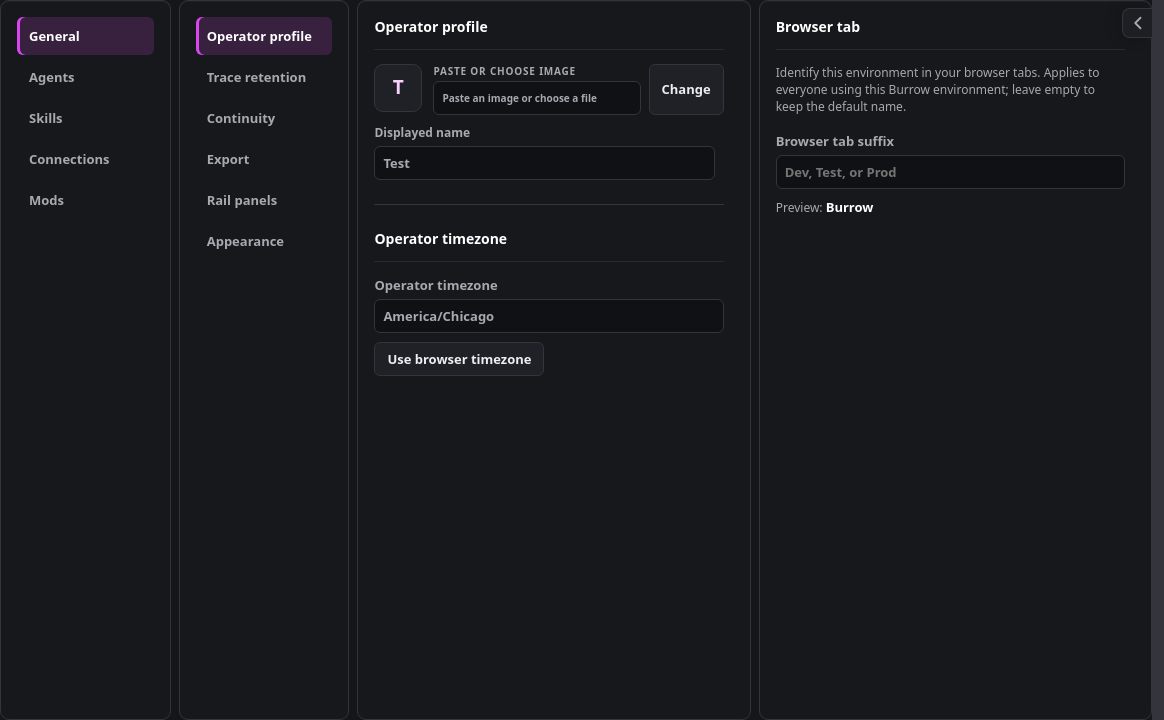
Test: mounts only the selected configuration, with no hidden duplicate reads
Expected: the field showing "Test" is shown, [374, 146, 715, 180]
Expected: the element "Browser tab" is shown, [759, 0, 1152, 719]
Click the button "Continuity" at (264, 118), box [196, 99, 332, 137]
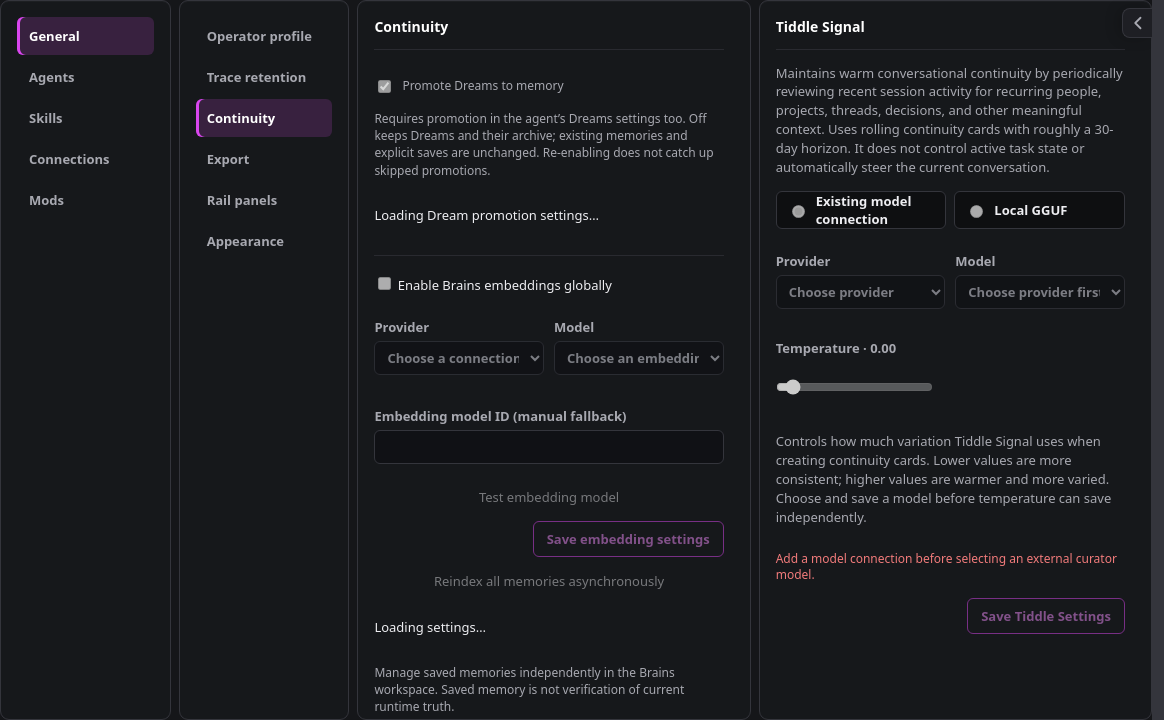
Expected: the element named "Browser tab" is shown, [759, 0, 1152, 719]
Now the element "Continuity" is shown, box [357, 0, 751, 719]
Click the button "Operator profile" at (264, 36), box [196, 17, 332, 55]
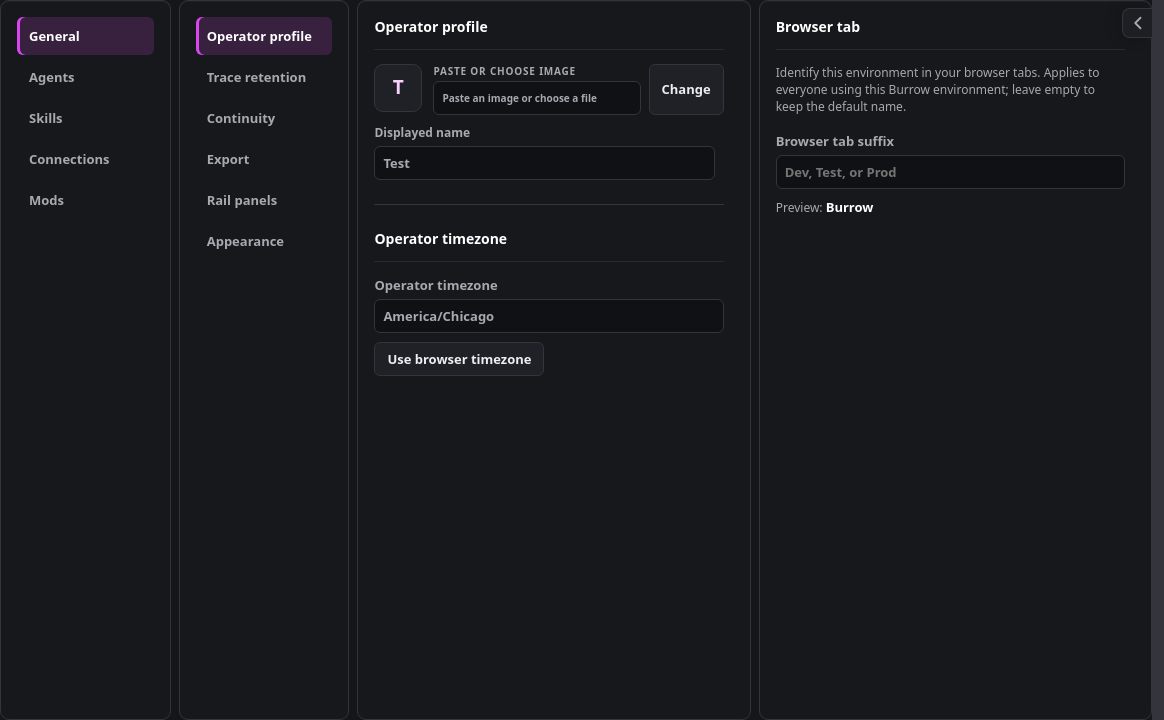
Now the field showing "America/Chicago" is shown, box [374, 299, 724, 333]
Click the button "Connections" at (85, 159), box [17, 140, 154, 178]
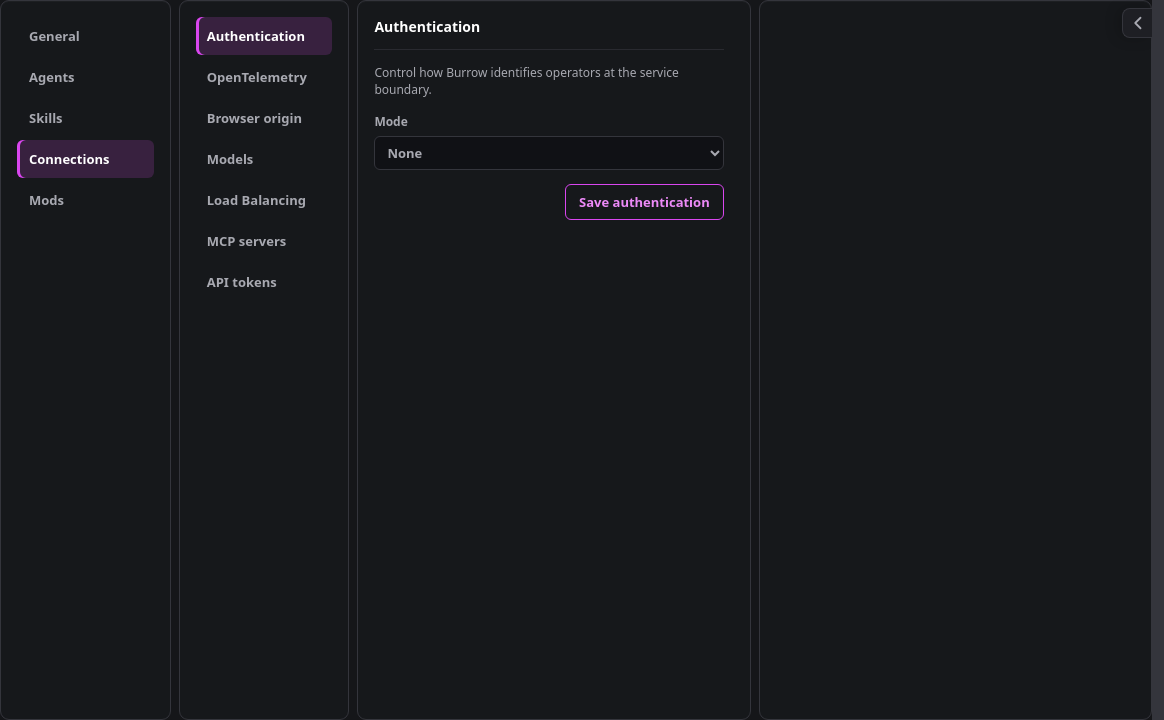
Now the button "Save authentication" is enabled, box [565, 184, 724, 220]
Now the number of buttons "Save authentication" is 1, box [565, 184, 724, 220]
Now the element "Browser origin" is shown, box [179, 0, 349, 719]
Click the button "Browser origin" at (264, 118), box [196, 99, 332, 137]
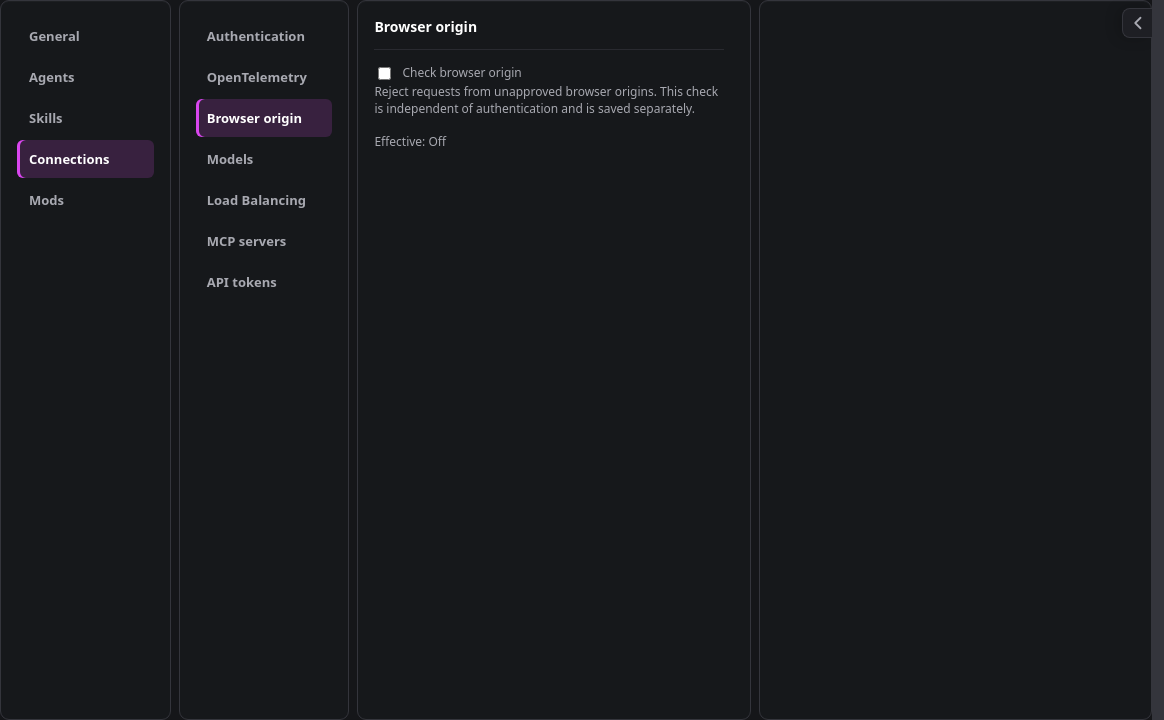
Expected: the element named "Continuity" is shown, [357, 0, 751, 719]
Now the checkbox labelled "Check browser origin" is enabled, box [378, 67, 391, 80]
Now the button "Save authentication" is gone
Click the button "Authentication" at (264, 36), box [196, 17, 332, 55]
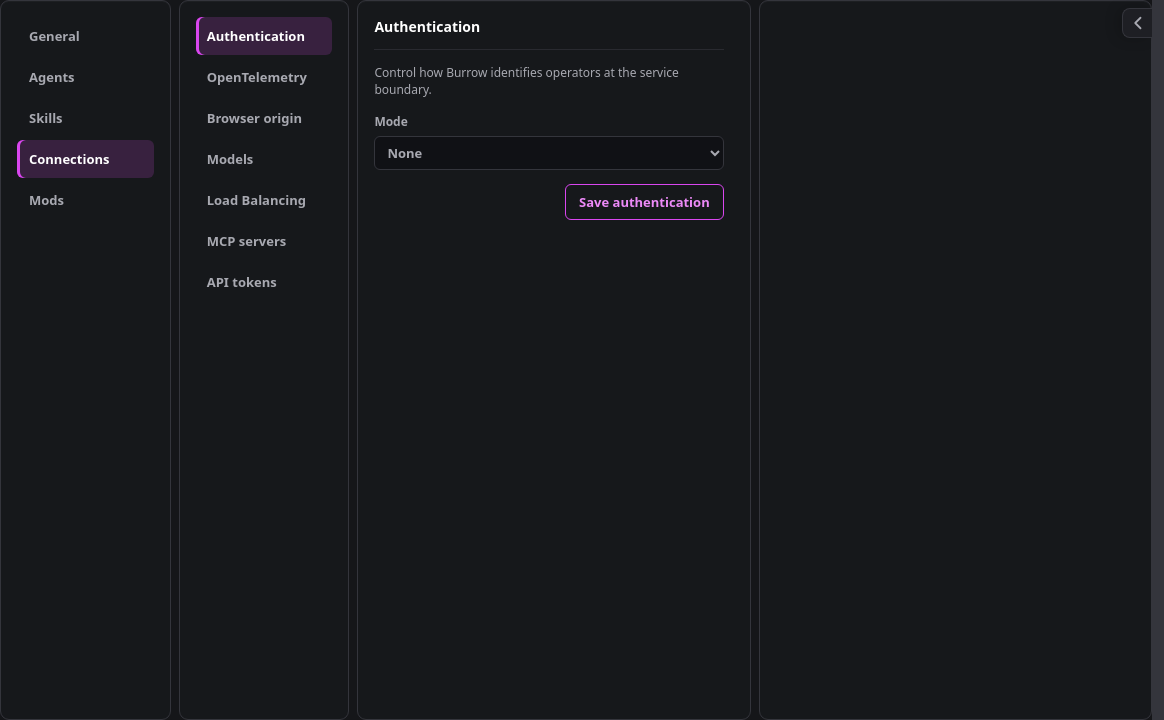
Now the button "Save authentication" is shown, box [565, 184, 724, 220]
